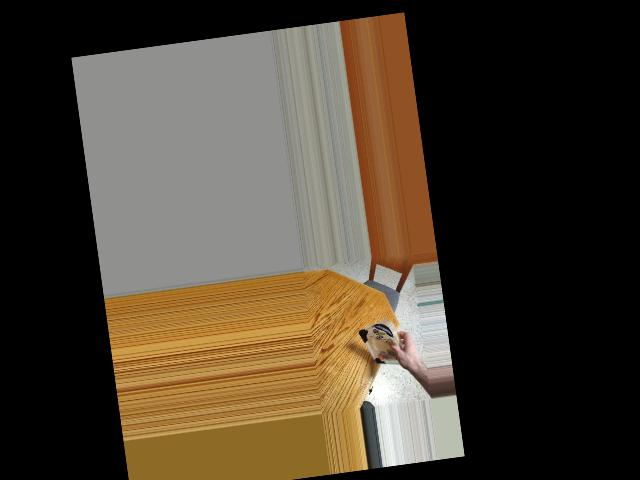cheese: (361, 320, 403, 374)
